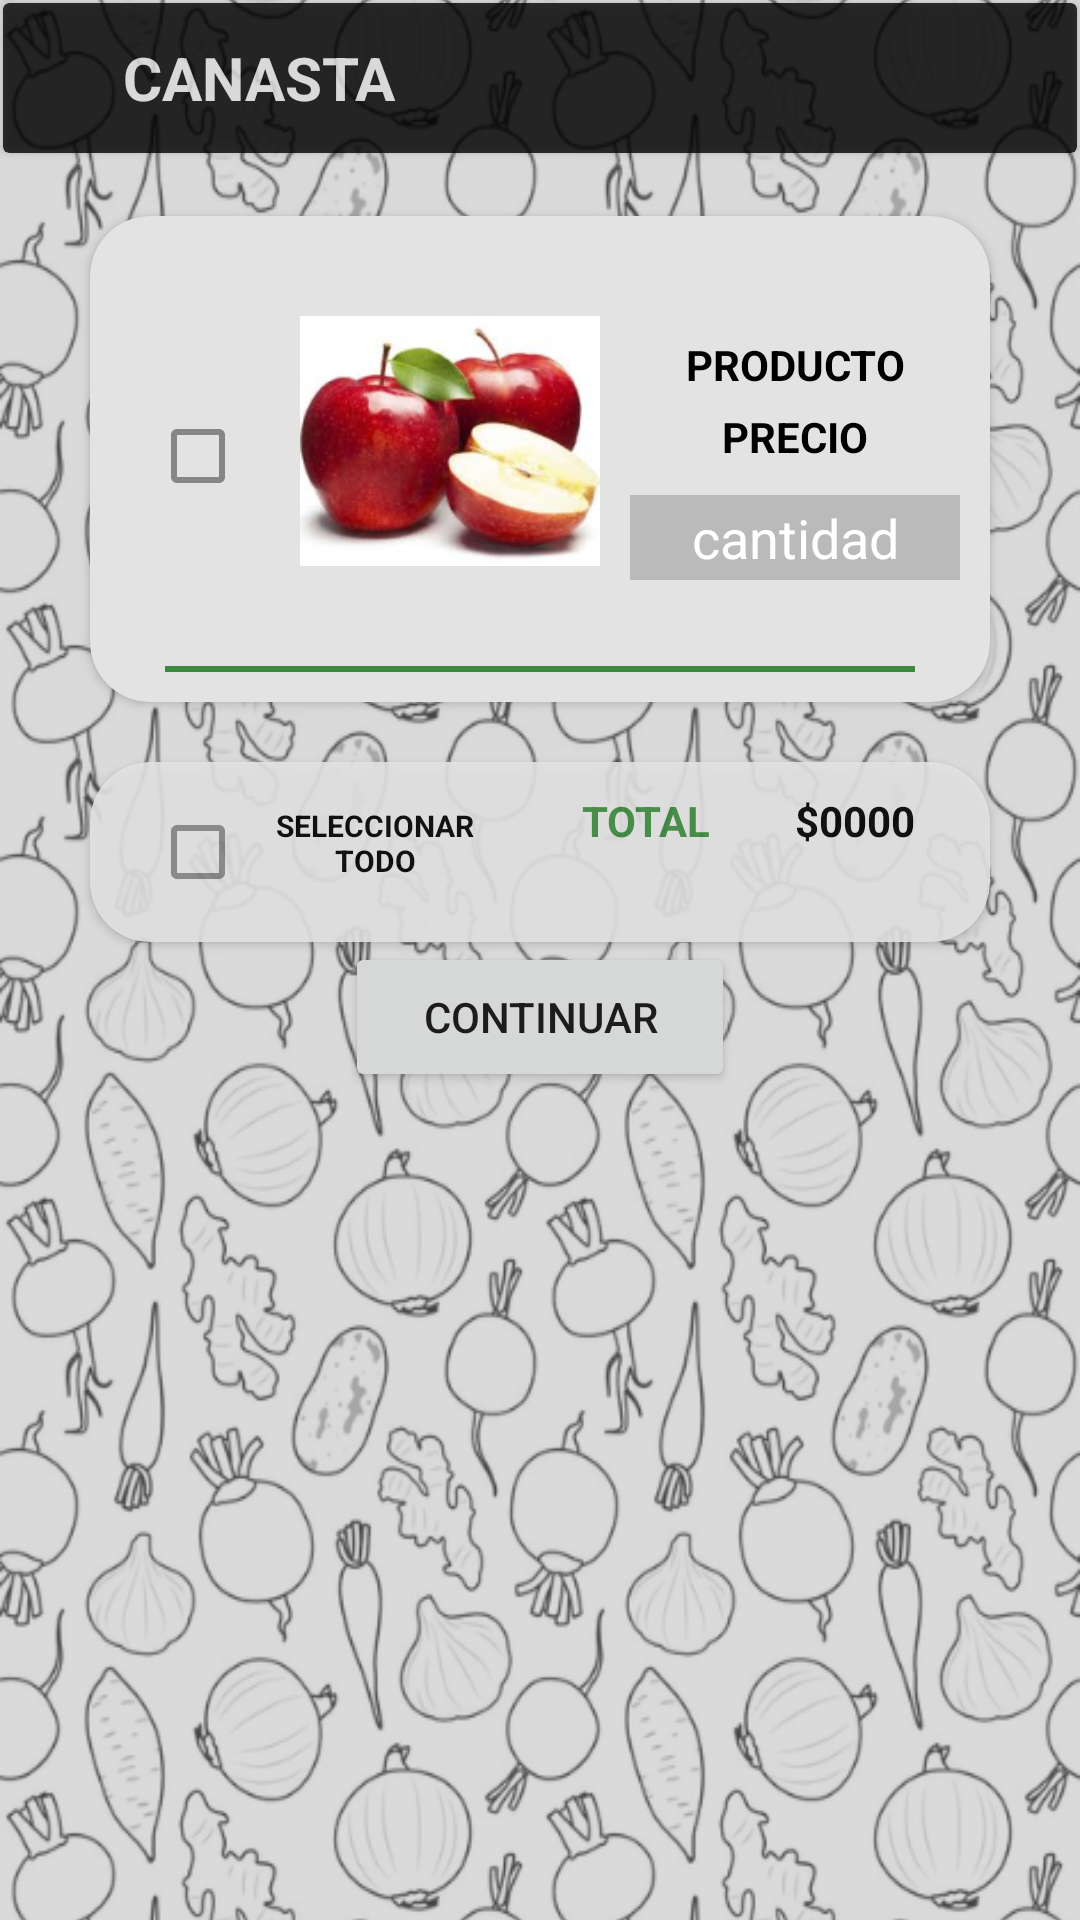

Icon bounding boxes for this 1080w x 1920h phone screenshot, format (x1, y1, x2, y2):
manzanas: (300, 316, 600, 566)
